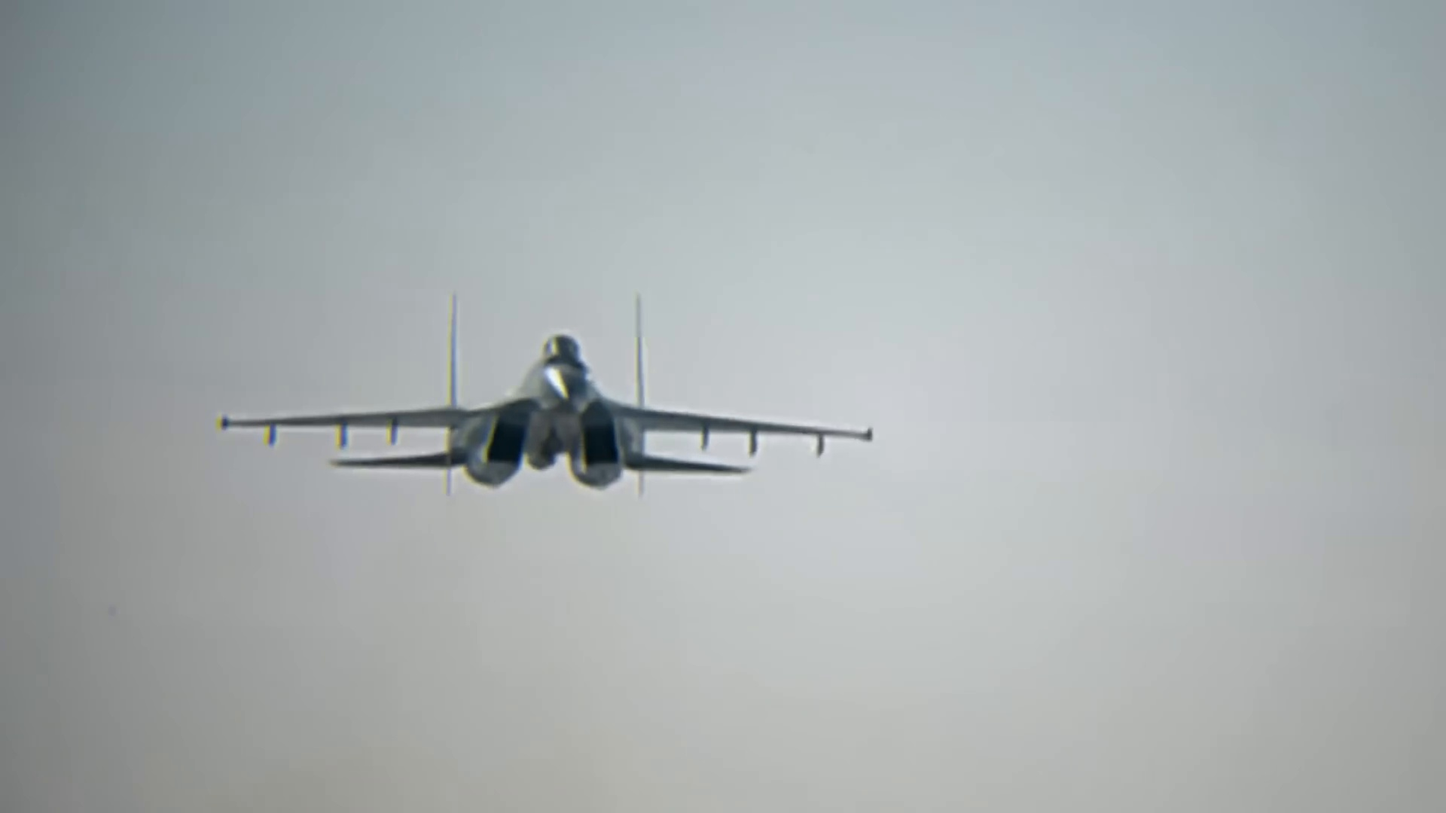Su35: (219, 294, 873, 495)
